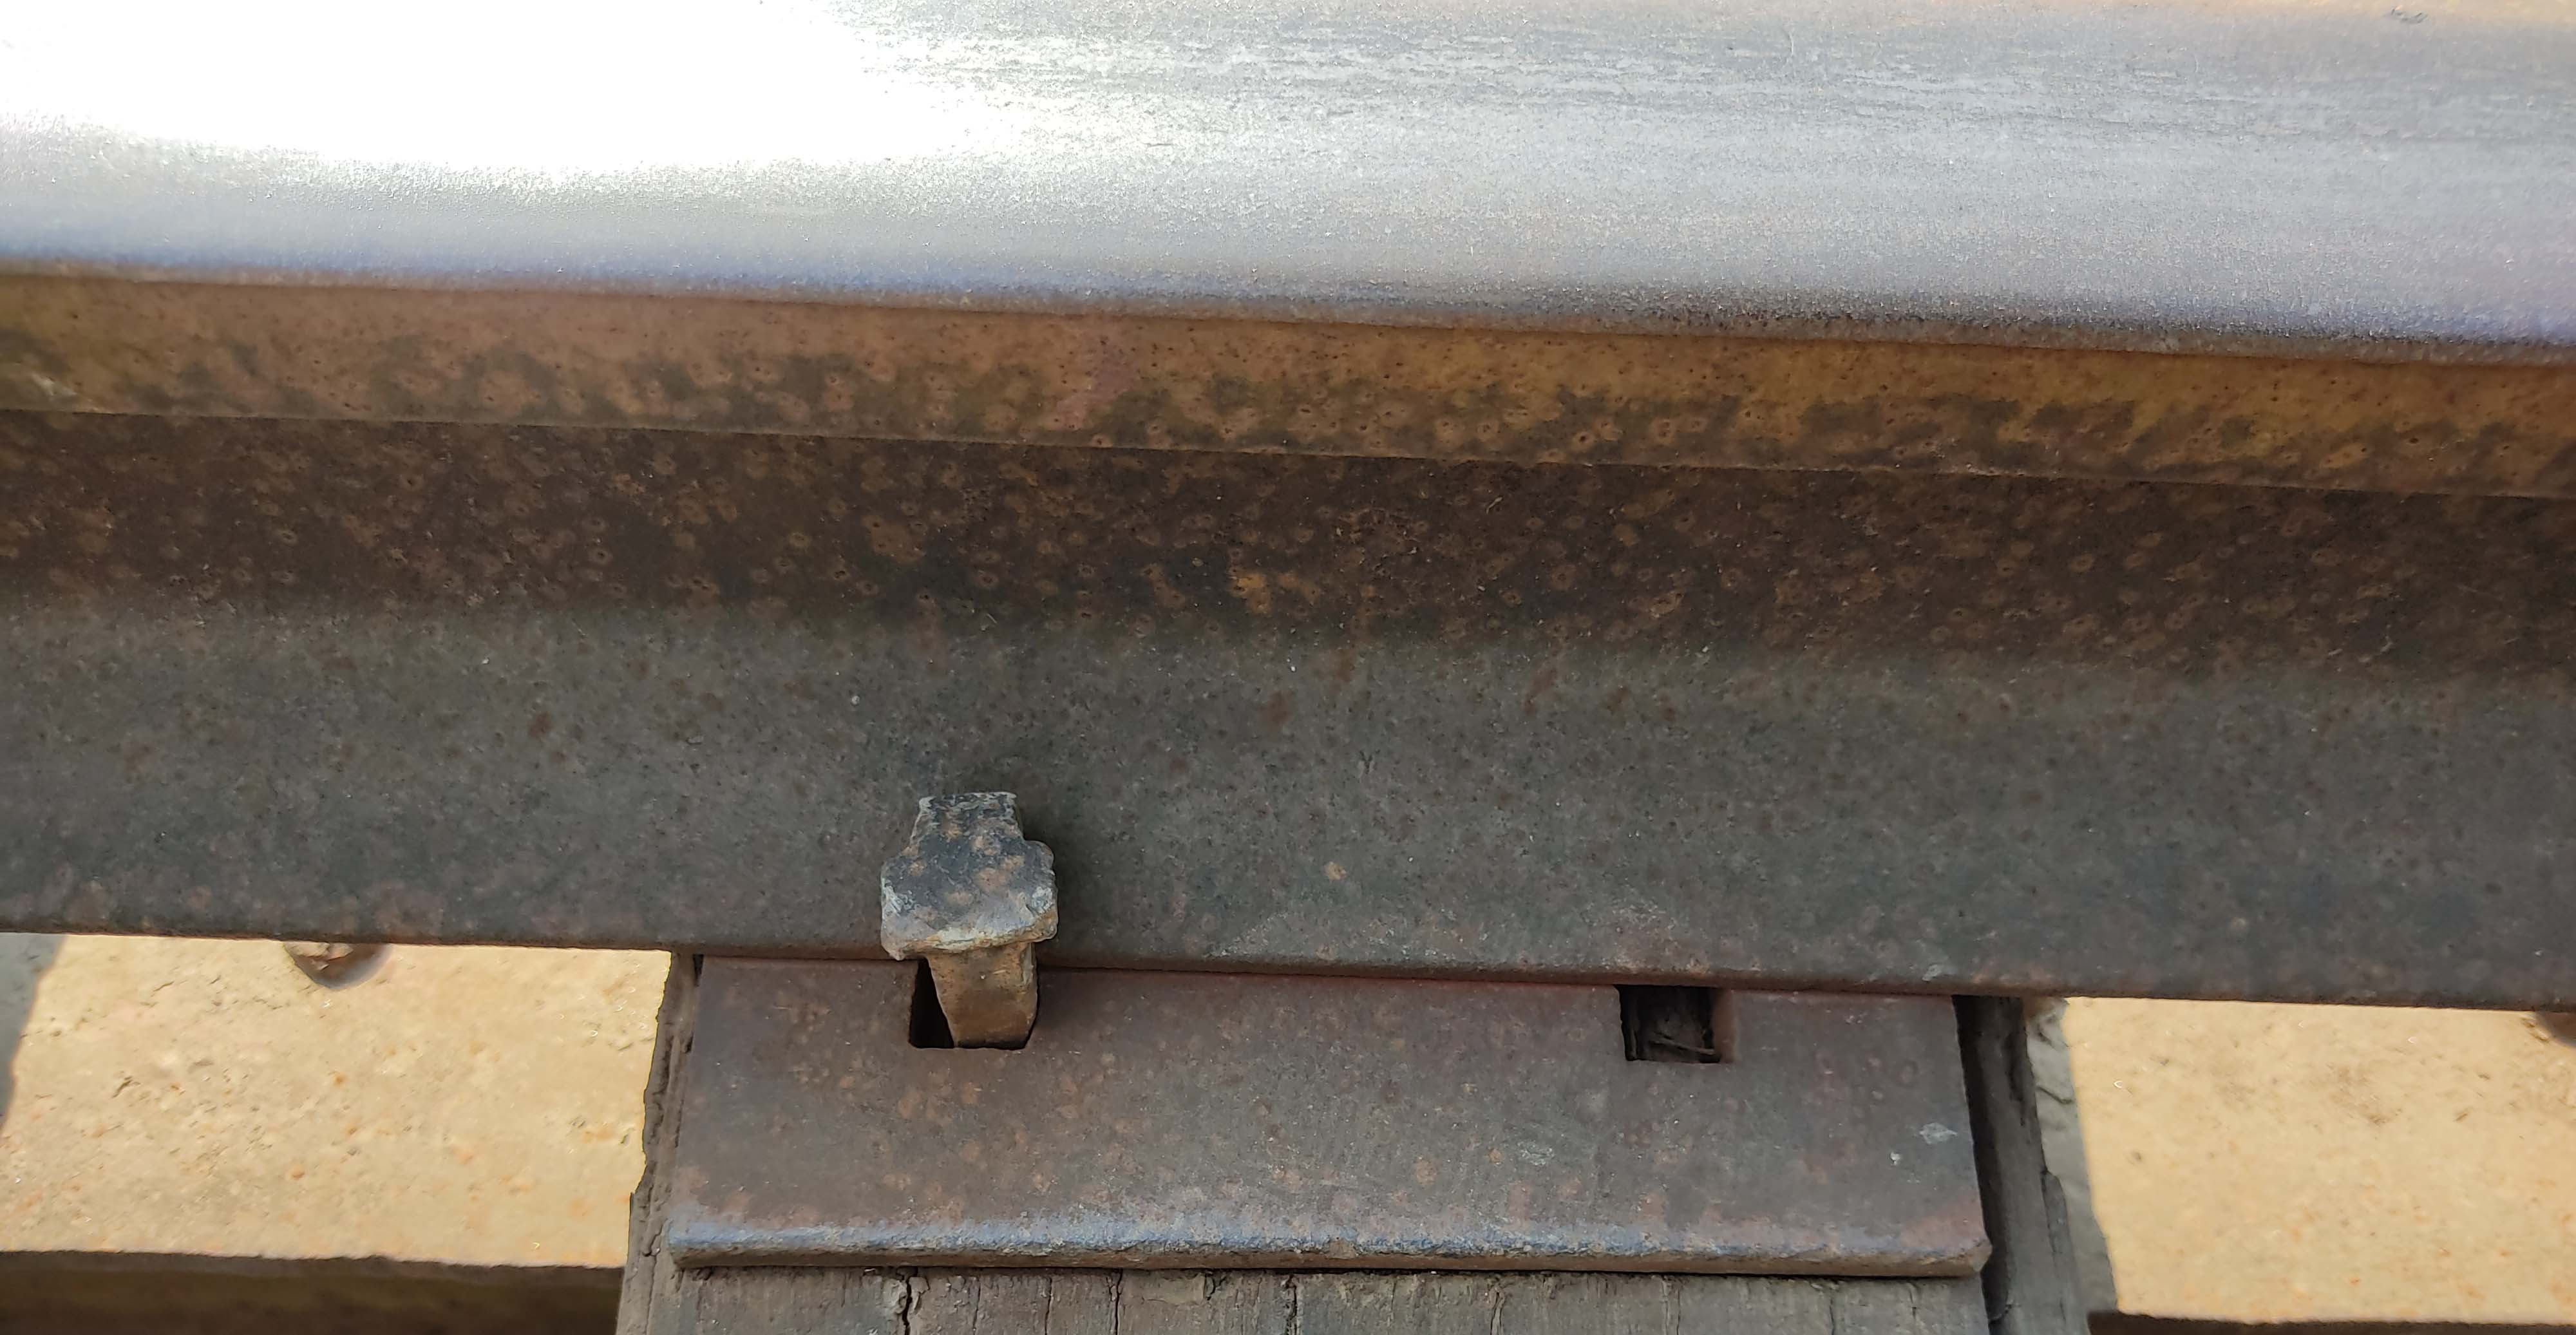error1: (848, 683, 1103, 1141), (1568, 850, 1781, 1149)
